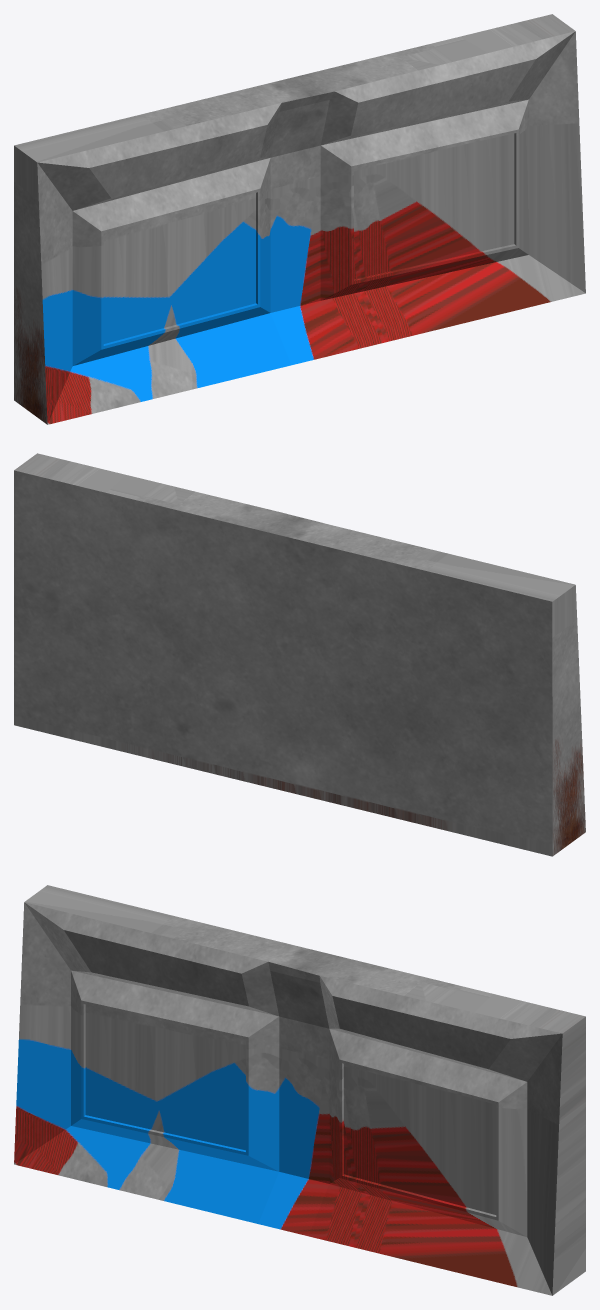
Rendered from Side_Scoreboard_Export.fbx.
The picture shows the model from 3 angles, top to bottom: view 1: azimuth 30°, elevation 25°; view 2: azimuth 150°, elevation 25°; view 3: azimuth 330°, elevation 25°; orthographic projection.
Parts seen in each view (by area): view 1: Scoreboard_V4; view 2: Scoreboard_V4; view 3: Scoreboard_V4.
Part boxes in pixels (left/top/right/bottom): Scoreboard_V4: left=14, top=14, right=585, bottom=424; Scoreboard_V4: left=14, top=453, right=585, bottom=856; Scoreboard_V4: left=14, top=885, right=585, bottom=1295.
Bounding box in the file's own units: 963 × 435 × 104.
